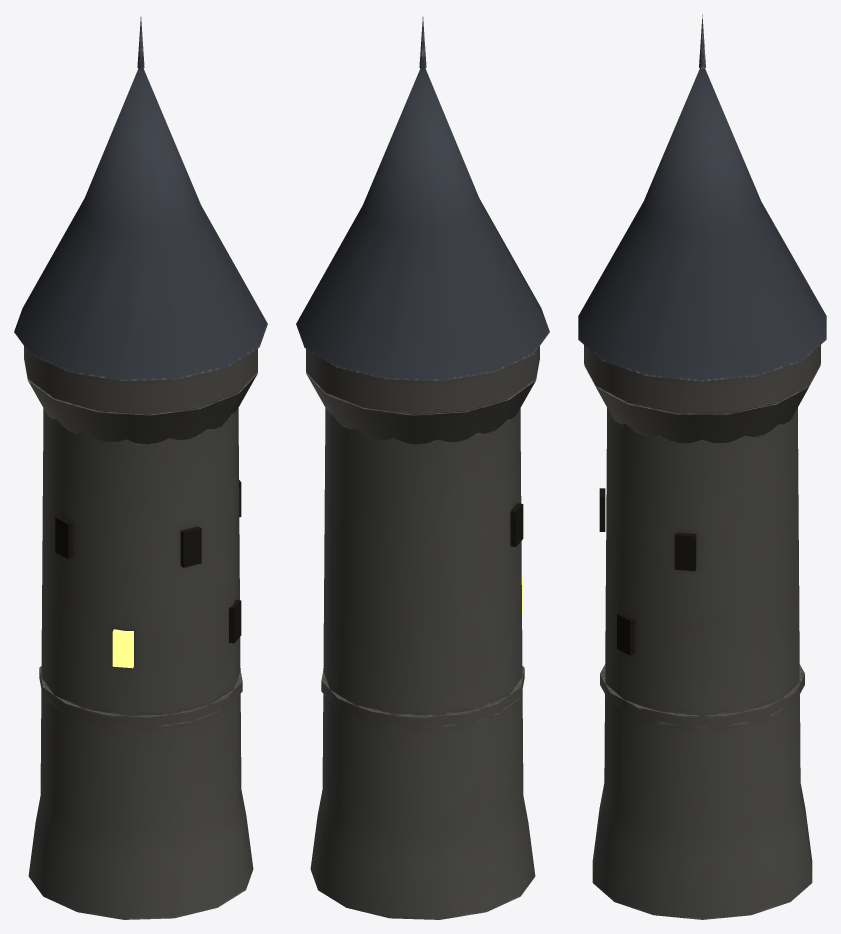
The model's file is gallows_skyline_tower.glb.
The picture shows the model from 3 angles, left to right: view 1: azimuth 30°, elevation 25°; view 2: azimuth 150°, elevation 25°; view 3: azimuth 270°, elevation 25°; orthographic projection.
Parts seen in each view (by area): view 1: gallows_skyline_tower, gallows_skyline_tower_glow; view 2: gallows_skyline_tower; view 3: gallows_skyline_tower.
Part boxes in pixels (<box>): gallows_skyline_tower: <box>14,17,267,919</box>; gallows_skyline_tower_glow: <box>112,629,133,668</box>; gallows_skyline_tower: <box>296,17,549,919</box>; gallows_skyline_tower: <box>578,14,826,919</box>.
Size of the model in its own units: 8.6 by 32 by 8.38.
2 materials, 1 textured.
